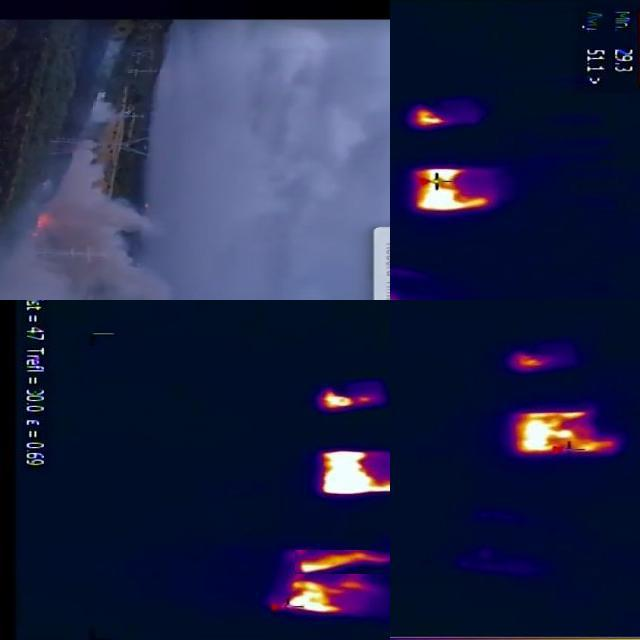fire: (512, 412, 620, 456), (412, 169, 496, 213), (323, 453, 391, 497), (285, 580, 351, 617), (295, 551, 391, 575), (317, 390, 375, 410), (410, 105, 452, 130), (512, 354, 550, 372)
